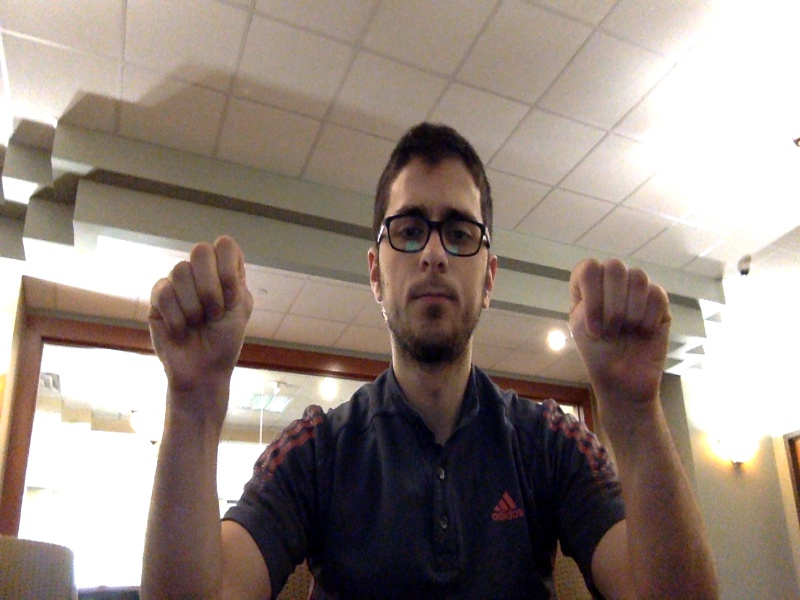0-hand: (149, 237, 253, 397), (569, 258, 672, 408)
